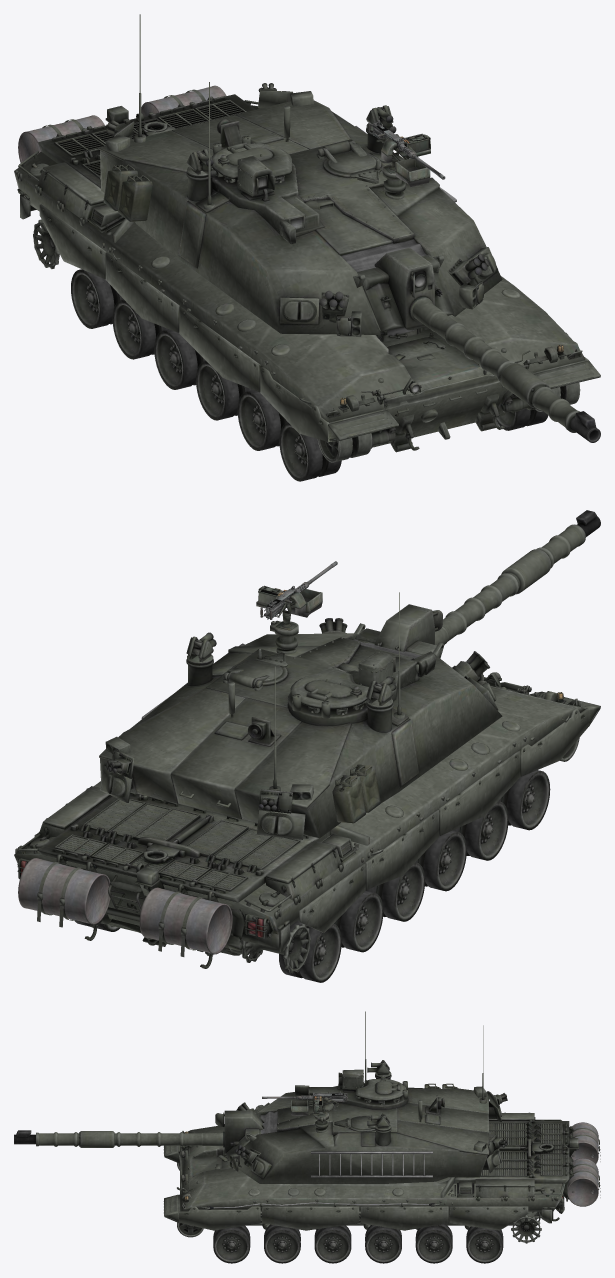
File: Challenger2.glb
3 views of the same model, one above another, from view 1: azimuth 30°, elevation 25°; view 2: azimuth 150°, elevation 25°; view 3: azimuth 270°, elevation 25° (orthographic). The views are drawn at different scales.
Visible parts, largest first — view 1: Wanne, turret, cannon, radL1, radL3, radL6, radL5, radL2, radL4, radL7, radR7, radL0 (+1 smaller); view 2: Wanne, turret, cannon, radL6, radL4, radL2, radL1, radL3, radL5, radL0; view 3: Wanne, turret, cannon, radR2, radR5, radR4, radR3, radR6, radR1, radR0.
Part boxes in pixels (left/top/right/bottom): Wanne: left=14, top=83, right=600, bottom=452; turret: left=100, top=14, right=502, bottom=336; cannon: left=406, top=264, right=600, bottom=442; radL1: left=71, top=269, right=123, bottom=328; radL3: left=154, top=329, right=205, bottom=389; radL6: left=279, top=422, right=341, bottom=481; radL5: left=237, top=390, right=287, bottom=450; radL2: left=112, top=299, right=168, bottom=359; radL4: left=196, top=361, right=252, bottom=420; radL7: left=317, top=413, right=398, bottom=462; radR7: left=498, top=382, right=580, bottom=412; radL0: left=33, top=219, right=59, bottom=269; Wanne: left=14, top=672, right=600, bottom=968; turret: left=100, top=561, right=502, bottom=844; cannon: left=432, top=510, right=600, bottom=645; radL6: left=498, top=770, right=550, bottom=830; radL4: left=416, top=830, right=466, bottom=891; radL2: left=334, top=891, right=383, bottom=952; radL1: left=279, top=920, right=341, bottom=982; radL3: left=365, top=862, right=424, bottom=921; radL5: left=453, top=801, right=508, bottom=860; radL0: left=109, top=918, right=310, bottom=973; Wanne: left=163, top=1086, right=600, bottom=1230; turret: left=223, top=1011, right=487, bottom=1186; cannon: left=14, top=1113, right=224, bottom=1147; radR2: left=415, top=1224, right=452, bottom=1263; radR5: left=264, top=1224, right=300, bottom=1263; radR4: left=314, top=1225, right=351, bottom=1263; radR3: left=365, top=1225, right=401, bottom=1263; radR6: left=213, top=1226, right=250, bottom=1263; radR1: left=466, top=1226, right=503, bottom=1263; radR0: left=511, top=1211, right=541, bottom=1243.
Bounding box in the file's own units: 3.57 × 3.96 × 11.2.
Materials: 2 (2 with a texture image).
